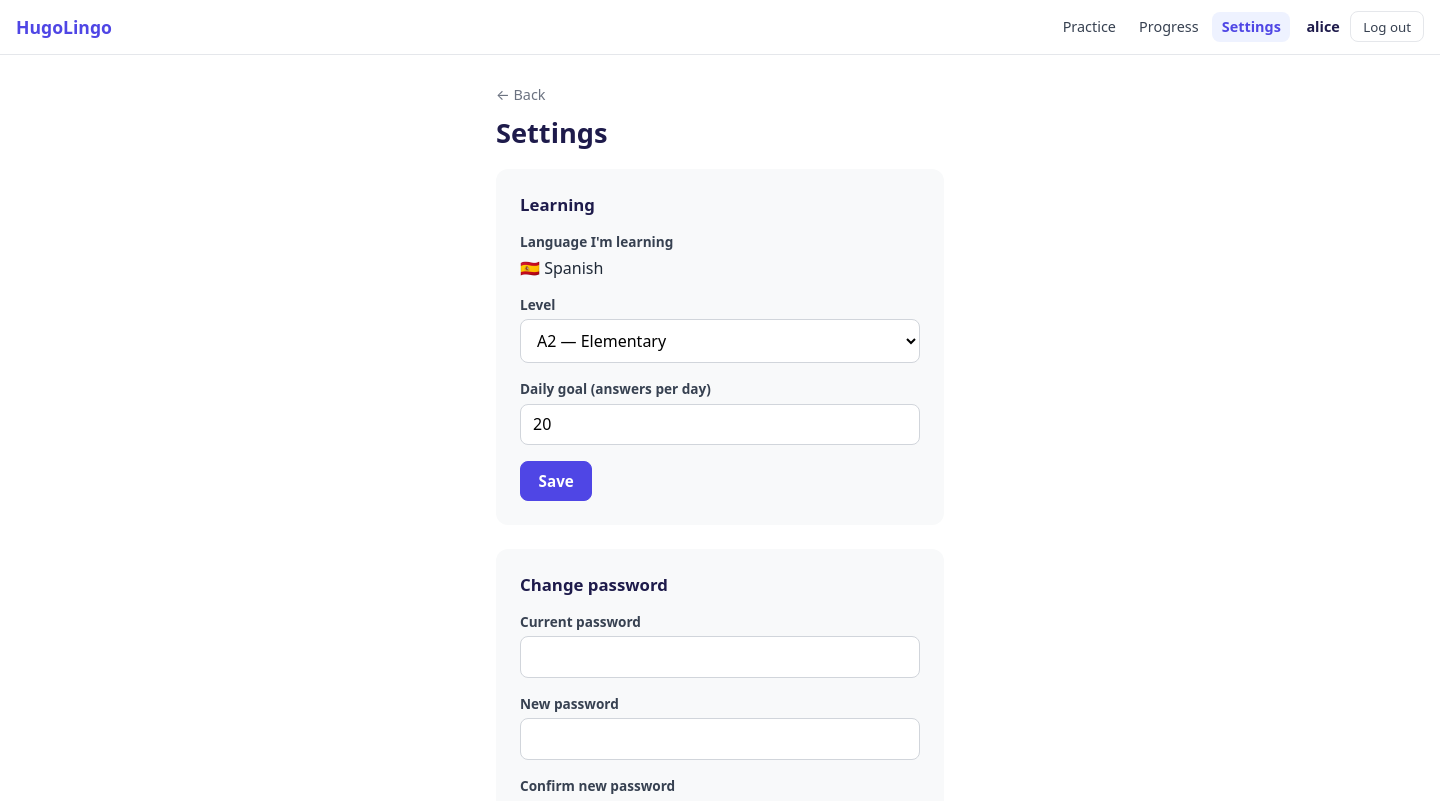
Scenario: settings page › saves learning preferences
Expected: the text "Language I'm learning" is shown, [520,232,673,251]
Expected: the text "🇪🇸 Spanish" is shown, [520,257,603,279]
Select "B2 — Upper Intermediate" in the dropdown labelled "Level" at (720, 341), box [520,319,920,363]
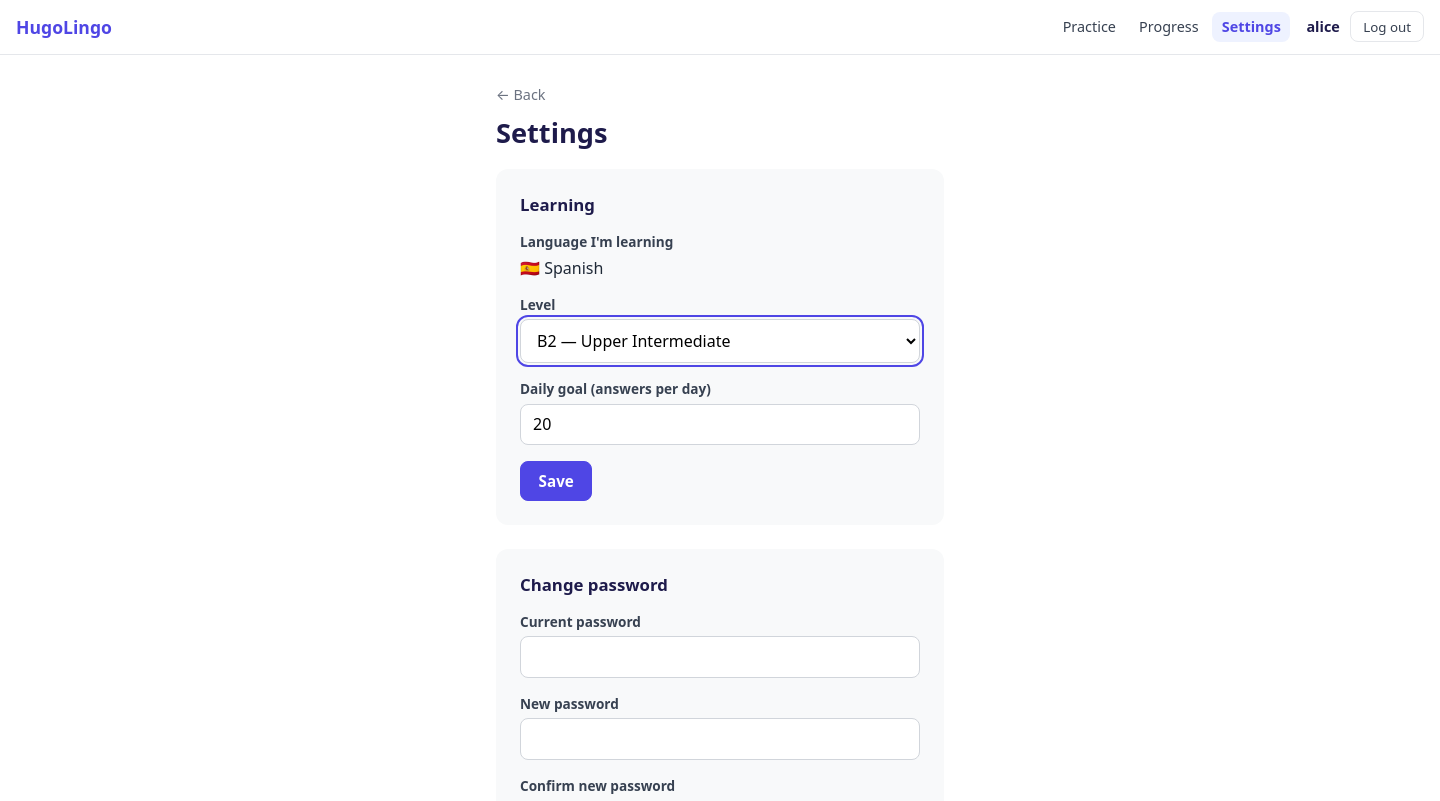
Replace the text in the number field labelled "Daily goal (answers per day)" with "30" at (720, 424), box [520,404,920,445]
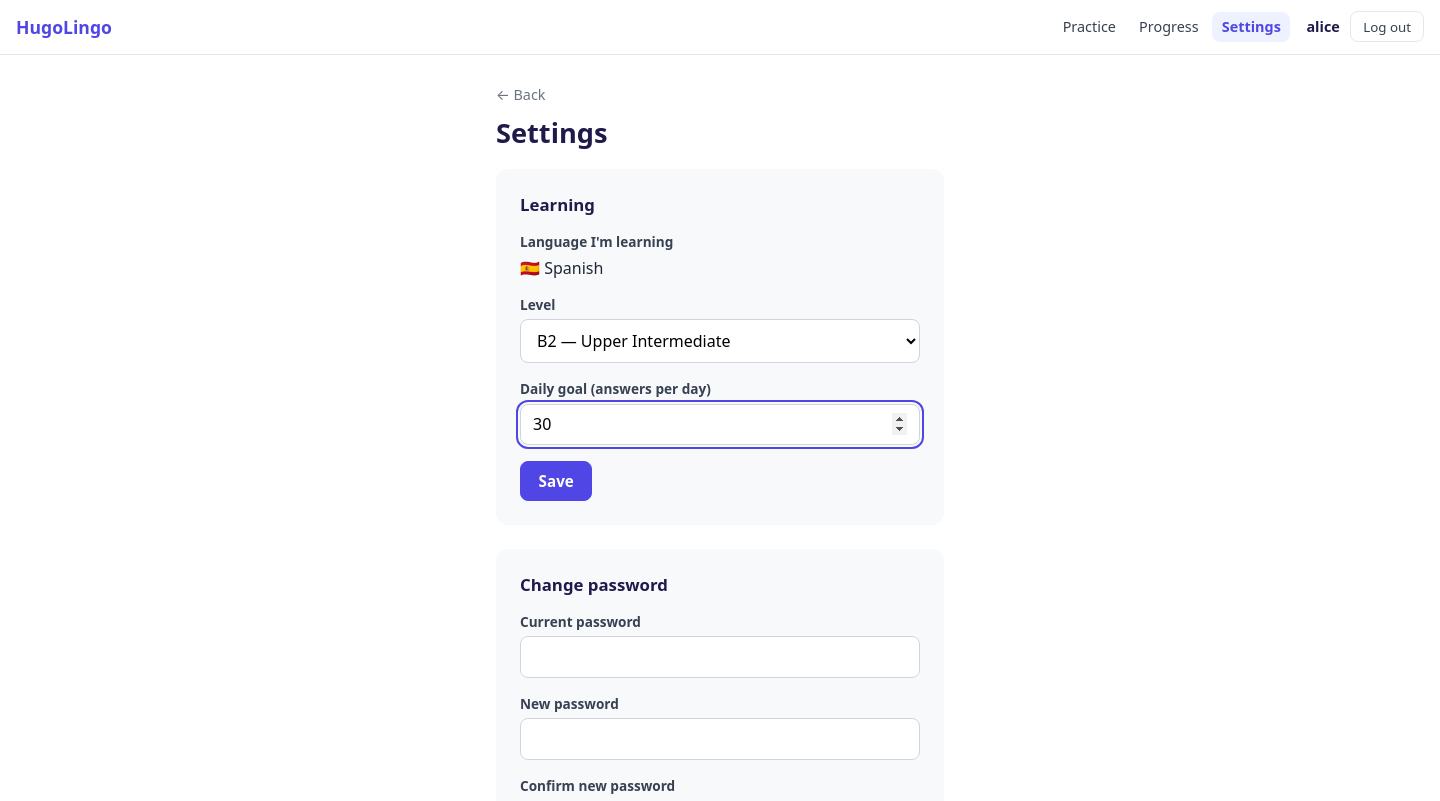
Click the button "Save".
click(556, 481)  # box [520,461,592,501]
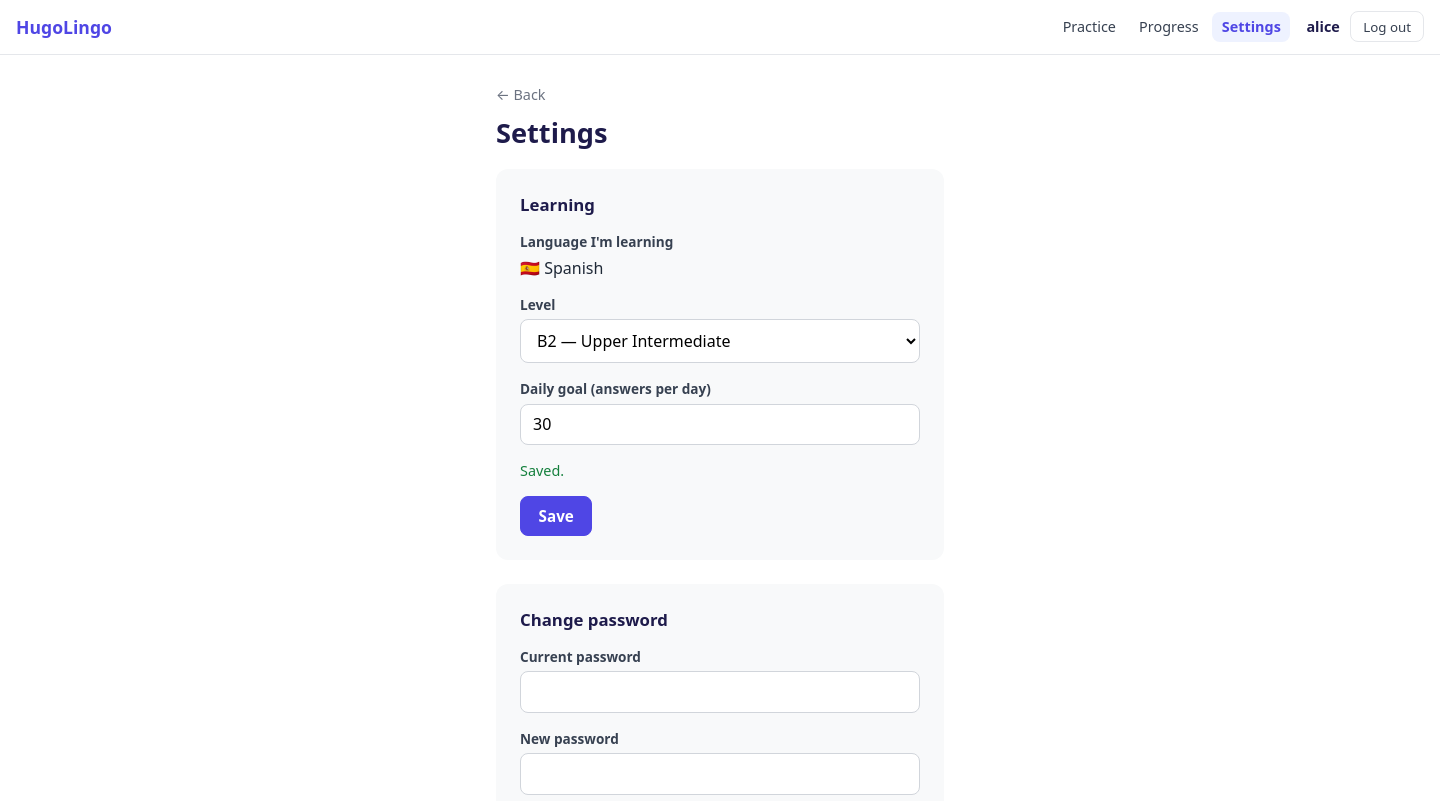
Now the text "Saved." is shown, box [520,461,564,480]
